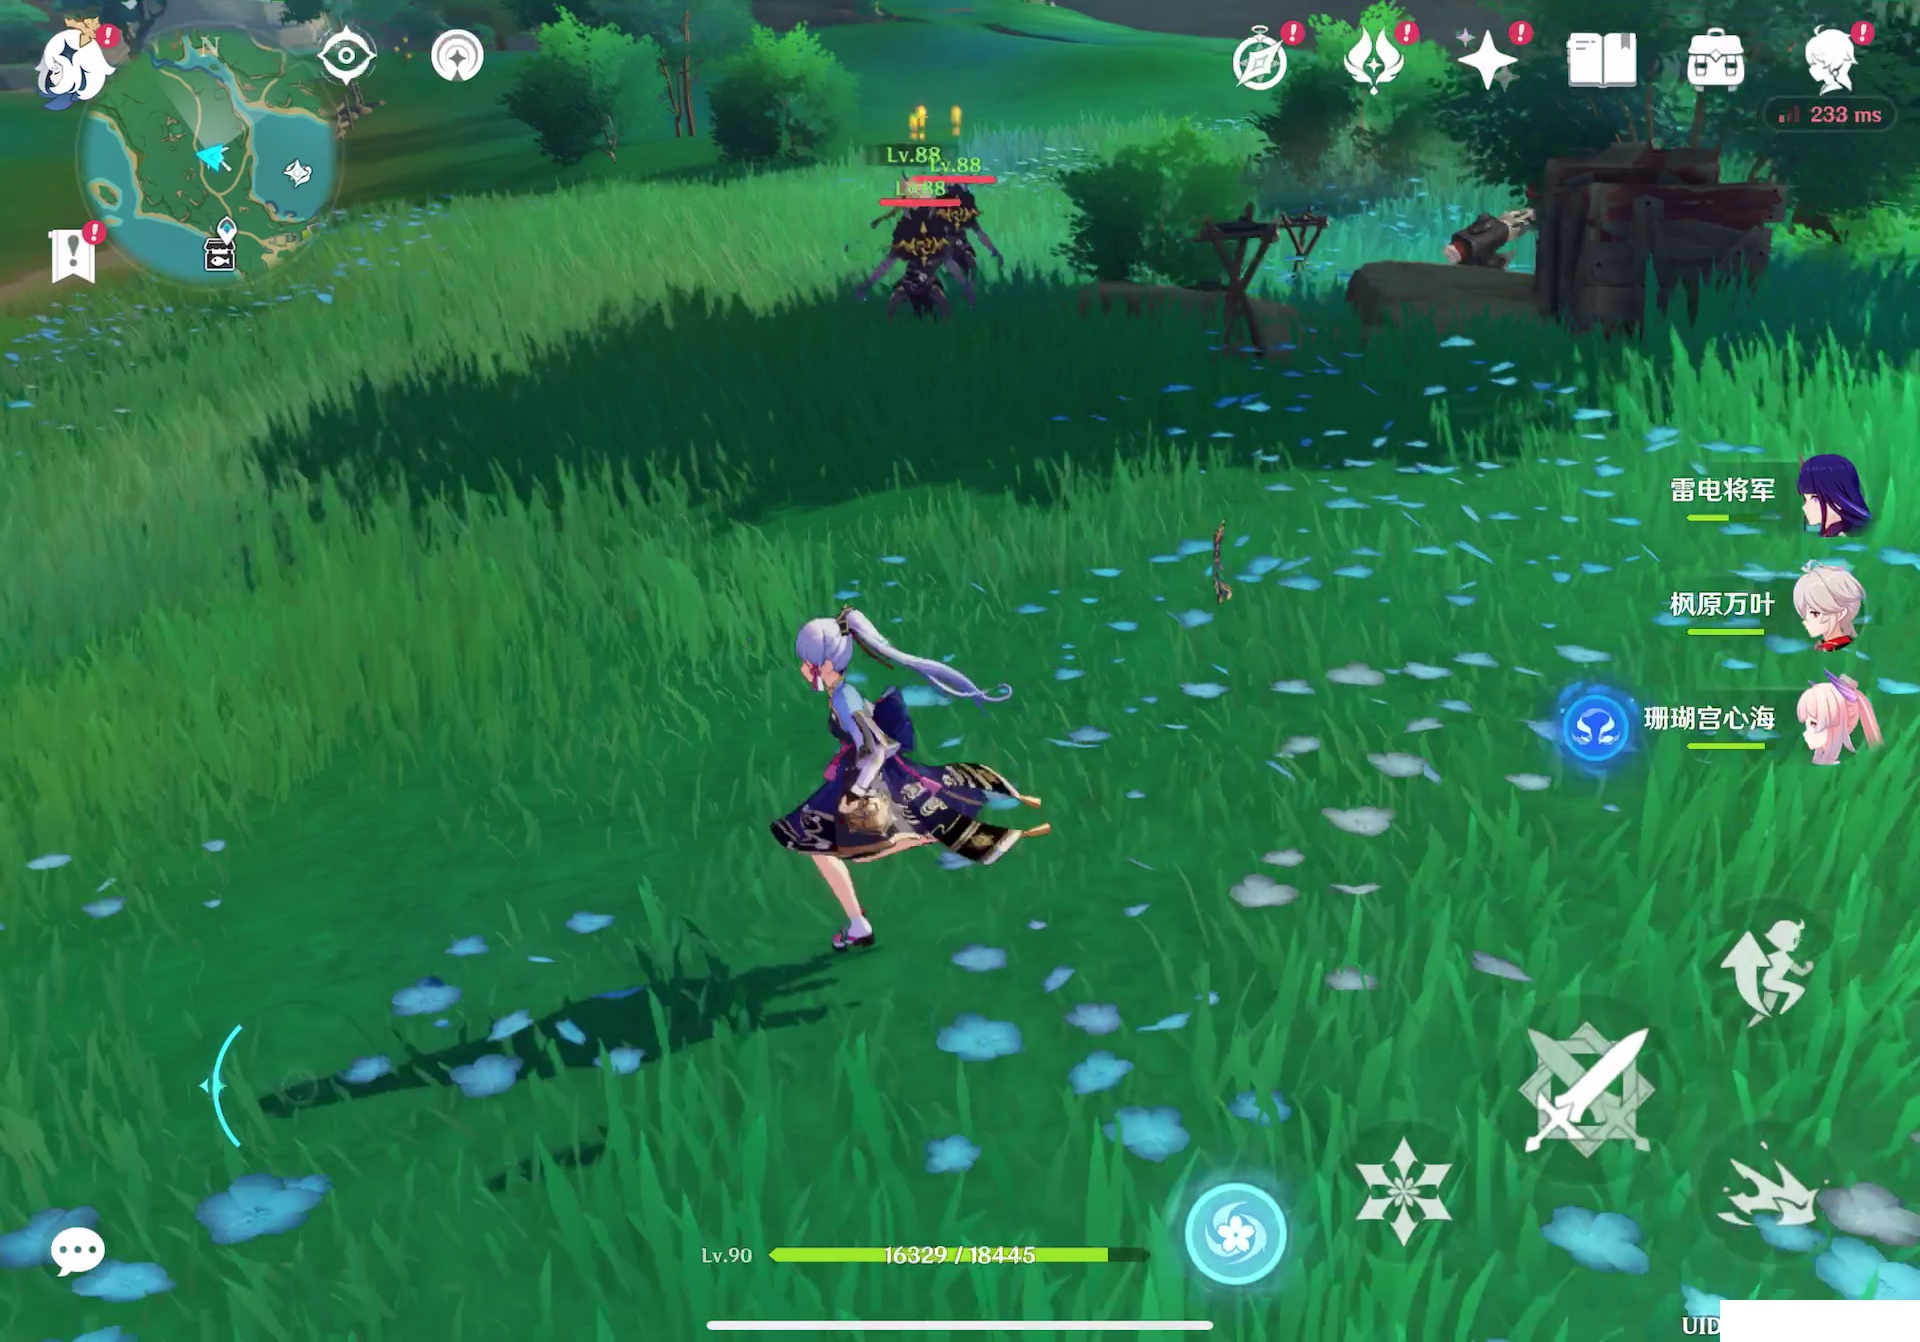丘丘人: (887, 190, 963, 328)
神里绫龟: (759, 607, 1056, 953)
